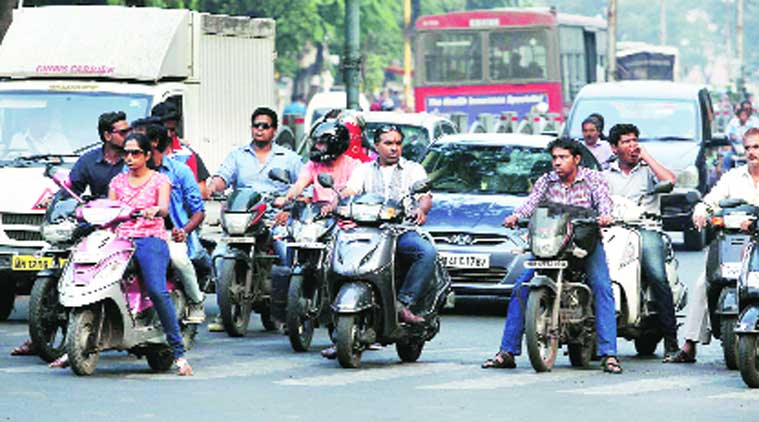NumberPlate: (522, 259, 573, 271)
no-helmet: (609, 123, 645, 168), (374, 124, 404, 169), (550, 141, 582, 180), (250, 107, 279, 150), (122, 135, 152, 176)
vehicle: (331, 196, 394, 368), (526, 208, 589, 372), (73, 202, 130, 374), (213, 188, 269, 337), (281, 199, 331, 351), (700, 204, 753, 339), (40, 194, 88, 337)
